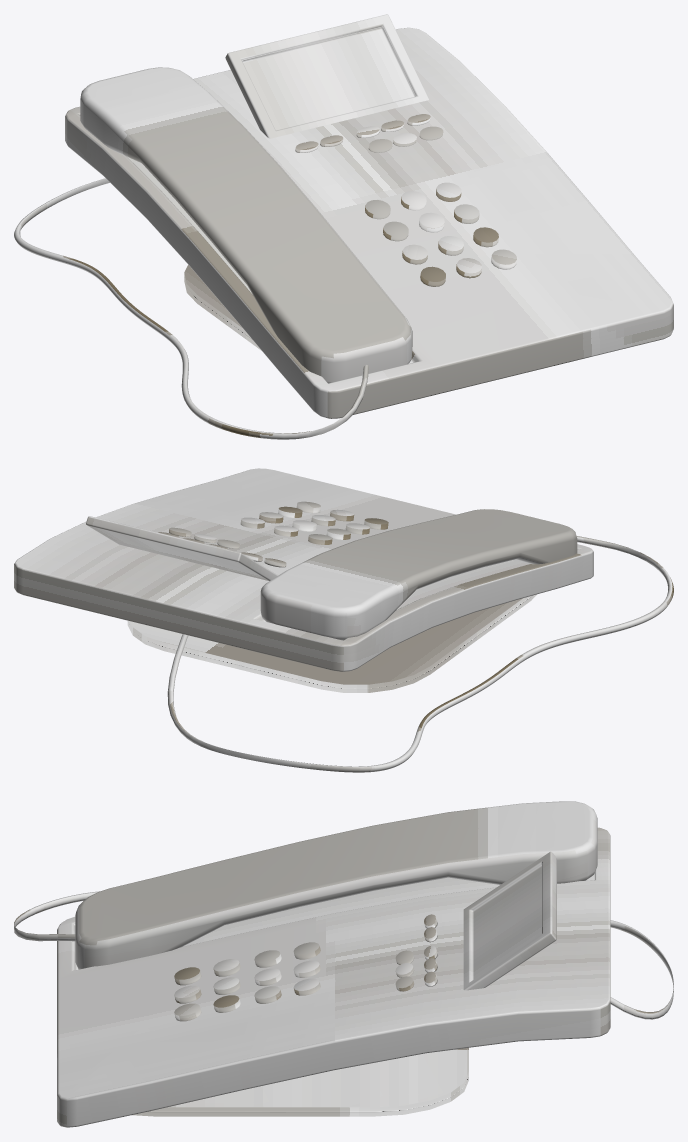
Rendered from Landline_phone.glb.
The picture shows the model from 3 angles, top to bottom: view 1: azimuth 30°, elevation 25°; view 2: azimuth 150°, elevation 25°; view 3: azimuth 270°, elevation 25°; orthographic projection. The views are drawn at different scales.
Parts seen in each view (by area): view 1: Landline_phone.001; view 2: Landline_phone.001; view 3: Landline_phone.001.
Boxes of the visible parts, x1=… form: Landline_phone.001: x1=14, y1=14, x2=673, y2=439; Landline_phone.001: x1=14, y1=468, x2=673, y2=772; Landline_phone.001: x1=14, y1=801, x2=673, y2=1127.
Size of the model in its own units: 0.2151 by 0.0738 by 0.2599.
1 material, 1 textured.
